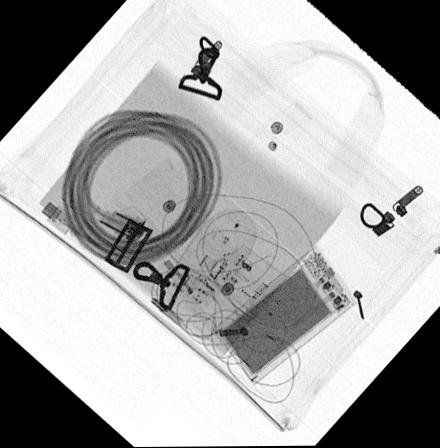Powerbank: (208, 242, 360, 385)
